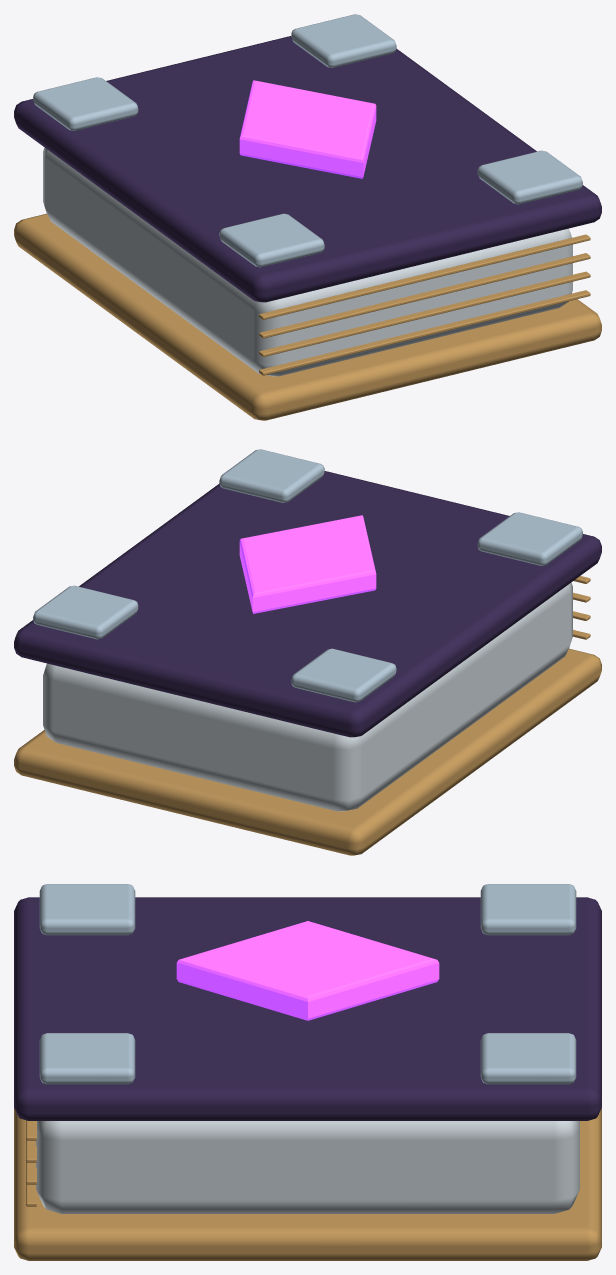
Rendered from moonsteel-convergence-sealed-grimoire-07aabe5c__18204.glb.
The picture shows the model from 3 angles, top to bottom: view 1: azimuth 30°, elevation 25°; view 2: azimuth 150°, elevation 25°; view 3: azimuth 270°, elevation 25°; orthographic projection. The views are drawn at different scales.
Visible parts, largest first — view 1: sealed-grimoire; view 2: sealed-grimoire; view 3: sealed-grimoire.
Boxes of the visible parts, bbox=[...] form: sealed-grimoire: bbox=[14, 14, 601, 420]; sealed-grimoire: bbox=[14, 449, 601, 855]; sealed-grimoire: bbox=[14, 884, 601, 1260].
Bounding box in the file's own units: 0.65 × 0.311 × 0.8.
